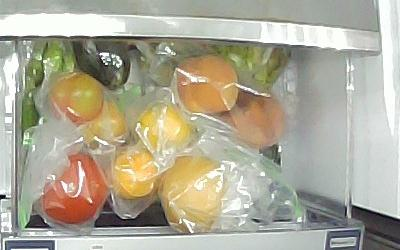peach_vinyl: (177, 56, 239, 113), (228, 87, 286, 146)
pear_vinyl: (158, 156, 230, 233)
tangerine_vinyl: (138, 104, 190, 152), (113, 146, 156, 198)
tomato_vinyl: (42, 151, 108, 225), (48, 73, 105, 125), (85, 101, 128, 148)
